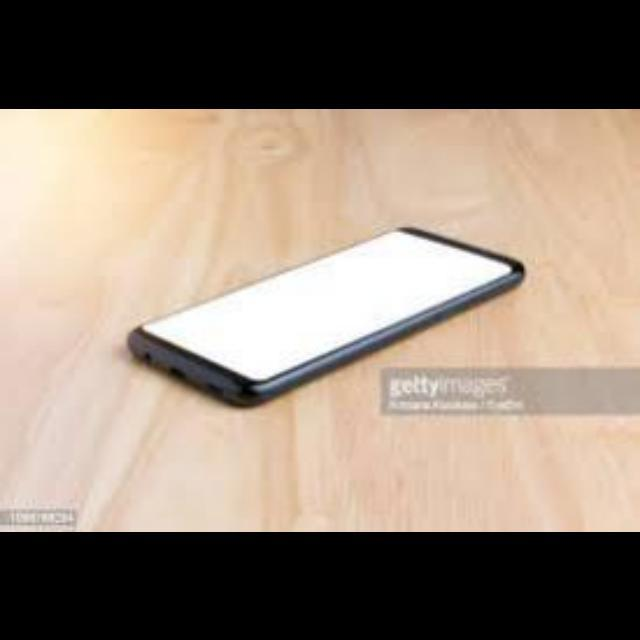Phone: (130, 222, 522, 408)
